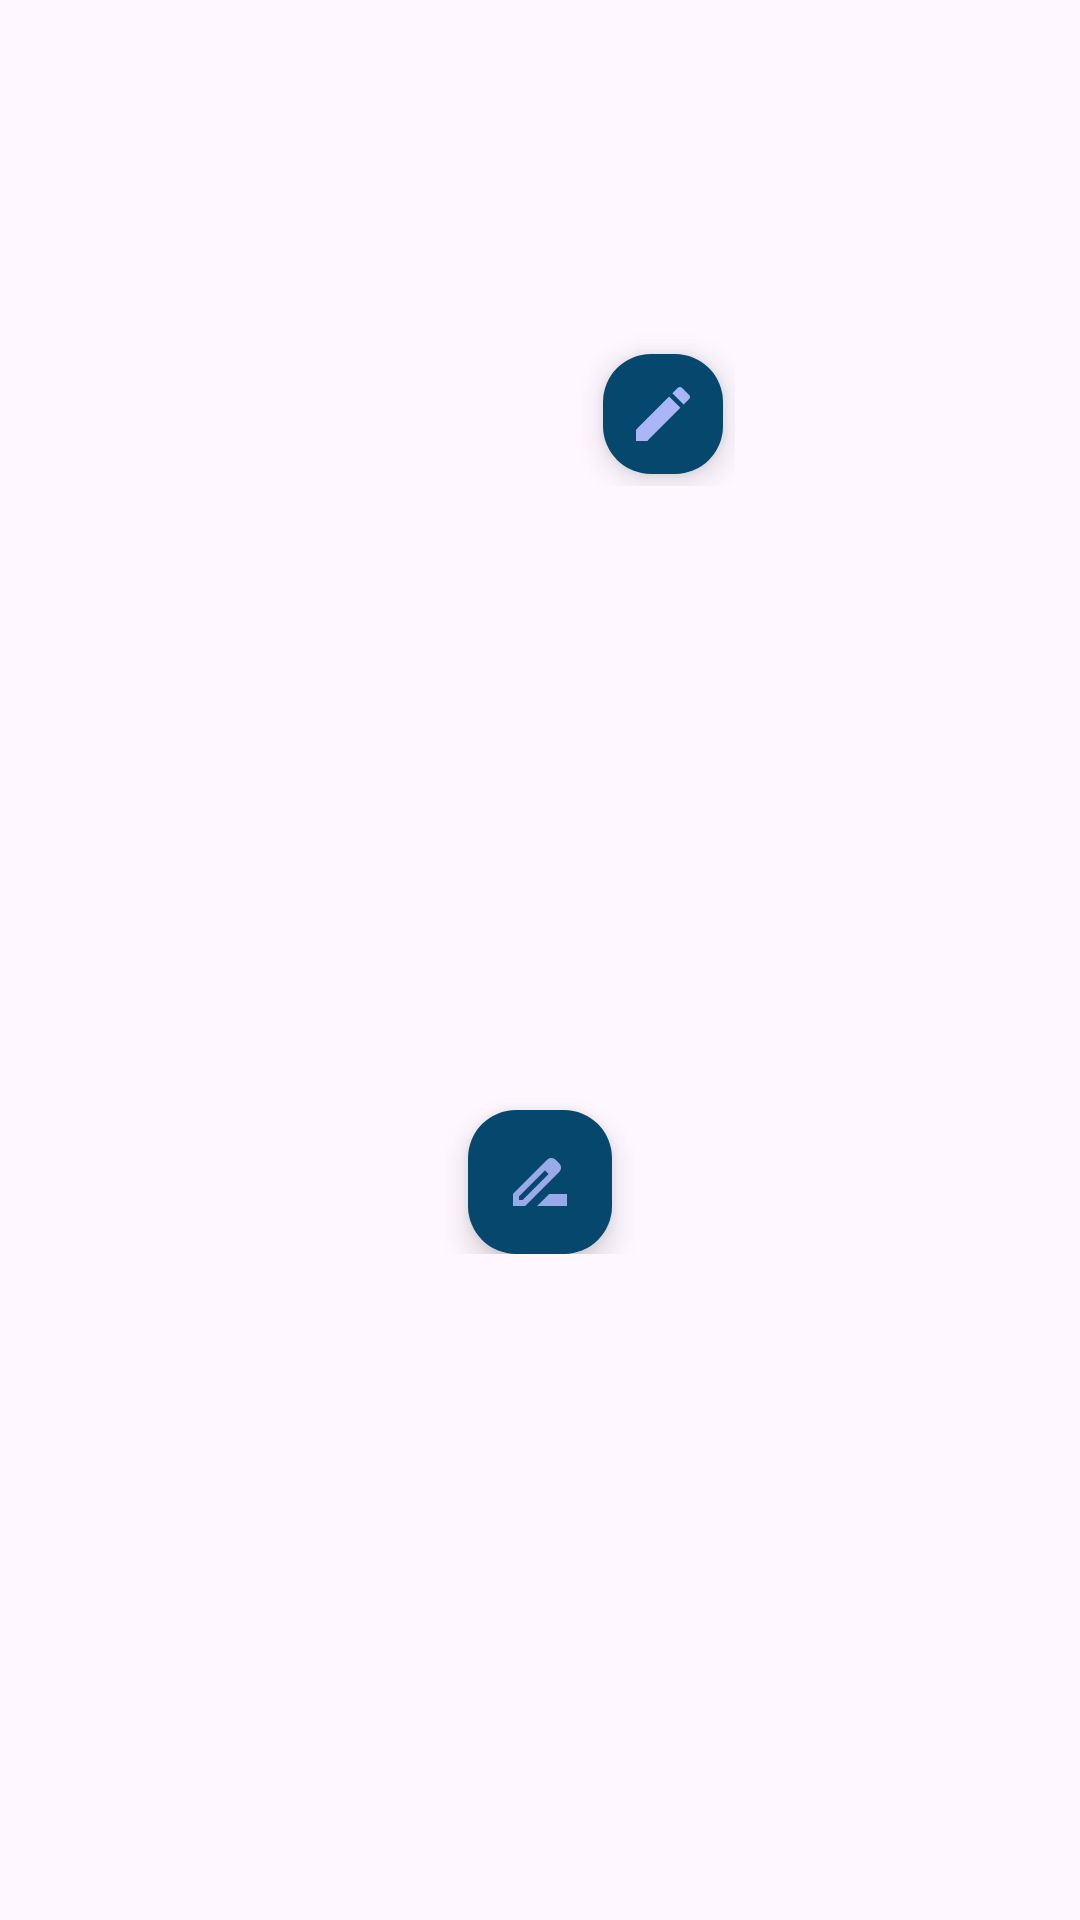

Icons on this 1080x1920 Android screen, each with its box as (x1, y1, x2, y2):
Editar avatar: (603, 354, 723, 476)
Editar datos: (468, 1110, 612, 1254)
